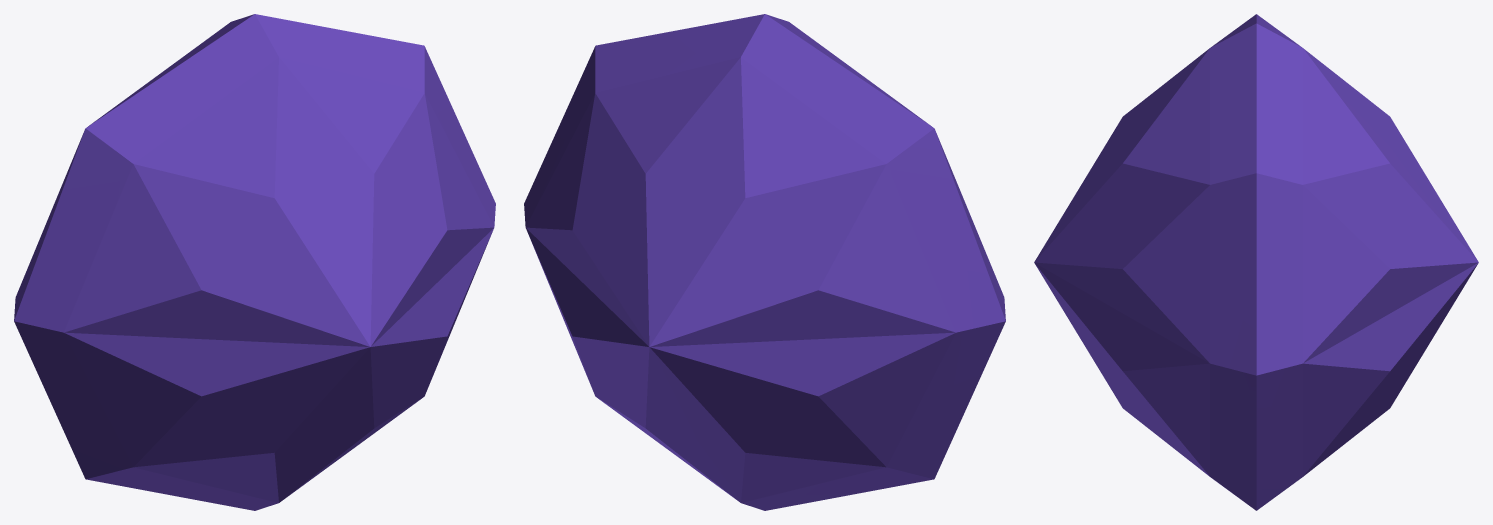
Rendered from Gem_13.fbx.
3 views of the same model, side by side, from view 1: azimuth 30°, elevation 25°; view 2: azimuth 150°, elevation 25°; view 3: azimuth 270°, elevation 25° (orthographic). The views are drawn at different scales.
Parts seen in each view (by area): view 1: Gem_13; view 2: Gem_13; view 3: Gem_13.
Part boxes in pixels (bbox=[...]): Gem_13: bbox=[14, 14, 495, 510]; Gem_13: bbox=[524, 14, 1005, 510]; Gem_13: bbox=[1034, 14, 1478, 510].
Bounding box in the file's own units: 76.53 × 75.41 × 63.58.
